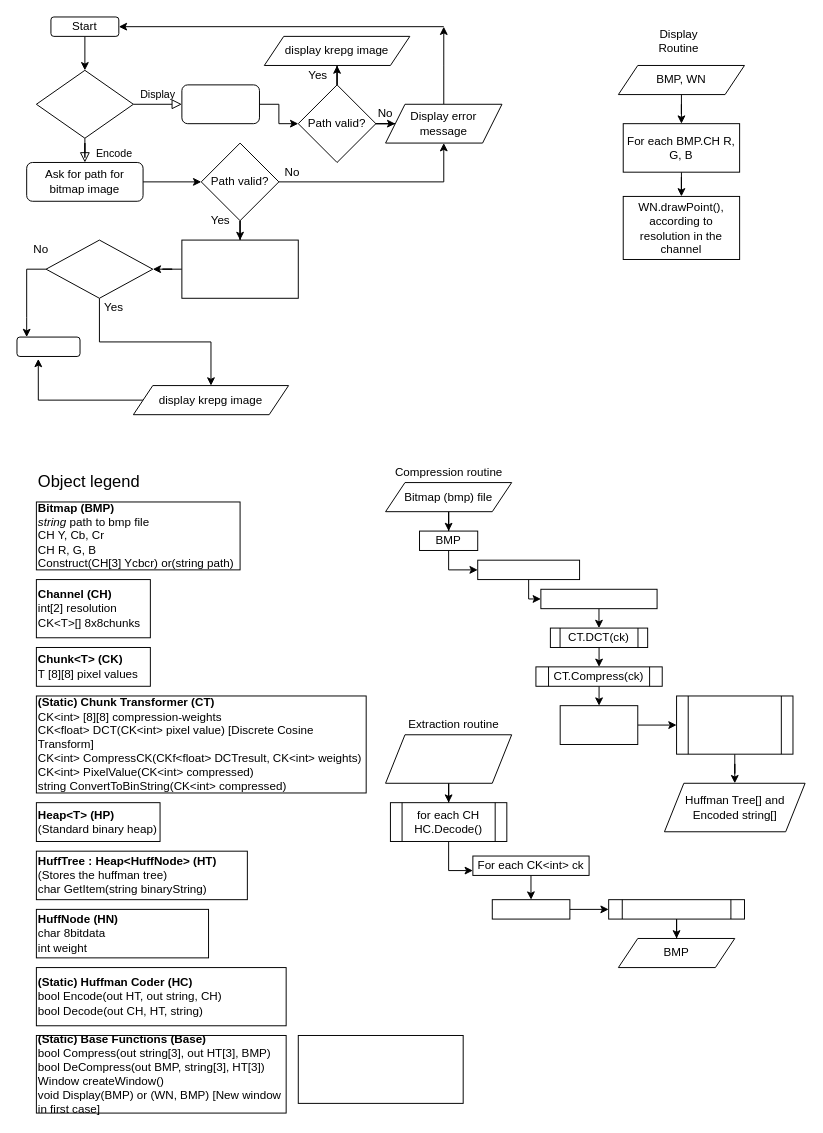
This 823x1133 diagram has some shape labels left out. Each missing label, with the centre of its shape:
"add to CH[3]" belongs at point 598,724.
"Ask for path" belongs at point 220,104.
"Ask to display the new file" belongs at point 99,268.
"BMP(CH[3] ycbcr)" belongs at point 676,909.
"Copy CH Y, Cb, Cr" belongs at point 528,569.
"Display or encode" belongs at point 84,103.
"For each CK ck" belongs at point 598,598.
"HC.Encode()" belongs at point 734,724.
"HT[] string[]" belongs at point 448,758.
"PixelValue(ck)" belongs at point 530,909.
"Read bitmap, transform to krepg and store in a new file in the same path" belongs at point 239,268.
"Stop" belongs at point 48,346.
"Window (WN) int[2] resolution void drawPoint(int[] xy, int[]rgb)" belongs at point 380,1069.
